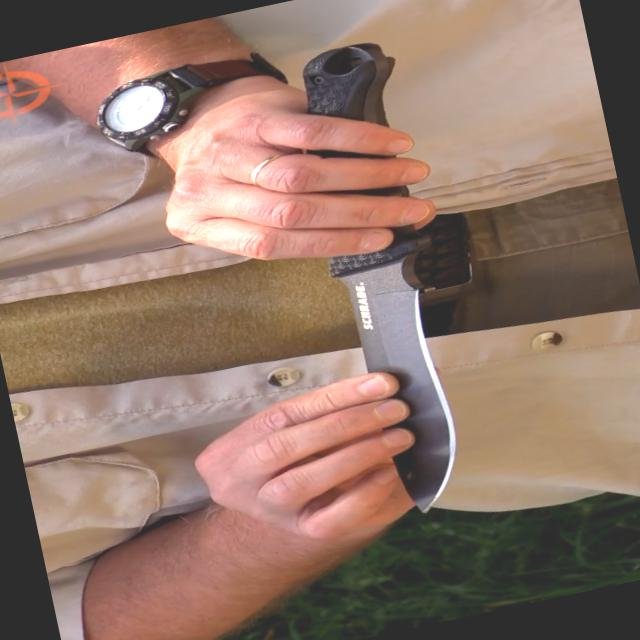knife: (242, 25, 505, 542)
